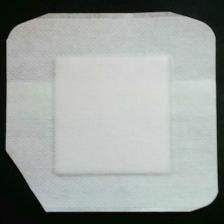Cut: (3, 9, 223, 218)
